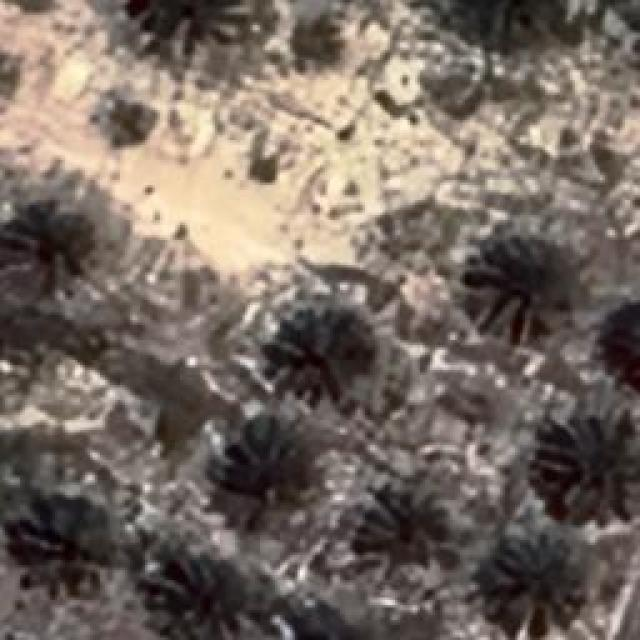PalmTree: (462, 231, 570, 342), (540, 410, 635, 522), (480, 538, 580, 638), (20, 492, 110, 602), (155, 552, 260, 638), (11, 204, 99, 302), (362, 485, 450, 570), (285, 305, 363, 395), (225, 420, 300, 510), (122, 0, 242, 55), (440, 0, 573, 47), (593, 298, 640, 400), (267, 600, 376, 640)
